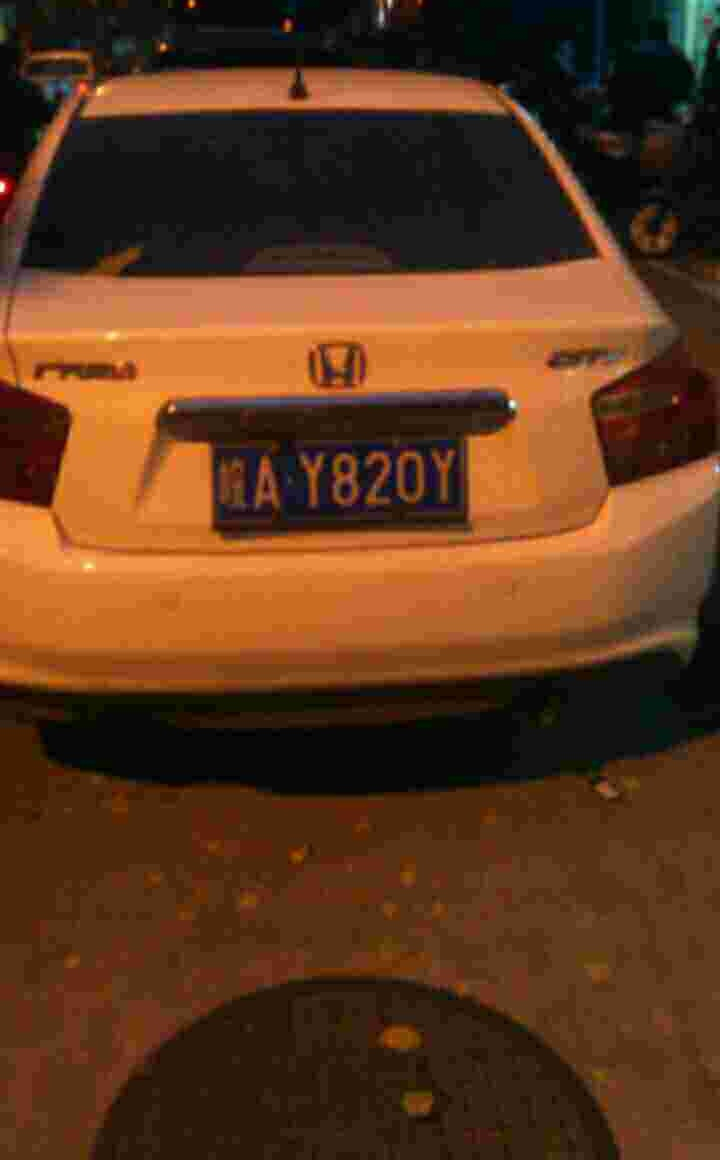plate: (214, 430, 470, 527)
